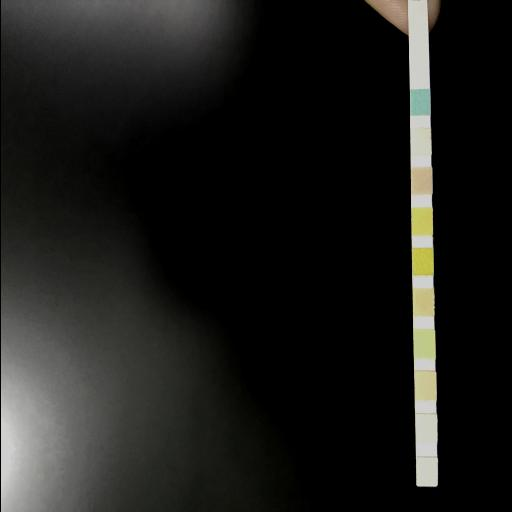Bilirubin: (410, 130, 430, 156)
Blood: (412, 249, 432, 275)
Glucose: (409, 91, 429, 115)
Ketone: (410, 168, 430, 194)
Leukocytes: (416, 459, 436, 486)
Nitrite: (415, 415, 436, 443)
Protein: (412, 330, 434, 358)
SpGravity: (410, 209, 432, 235)
Urobilinogen: (414, 372, 436, 400)
pH: (412, 290, 432, 316)
strip: (407, 0, 437, 488)
